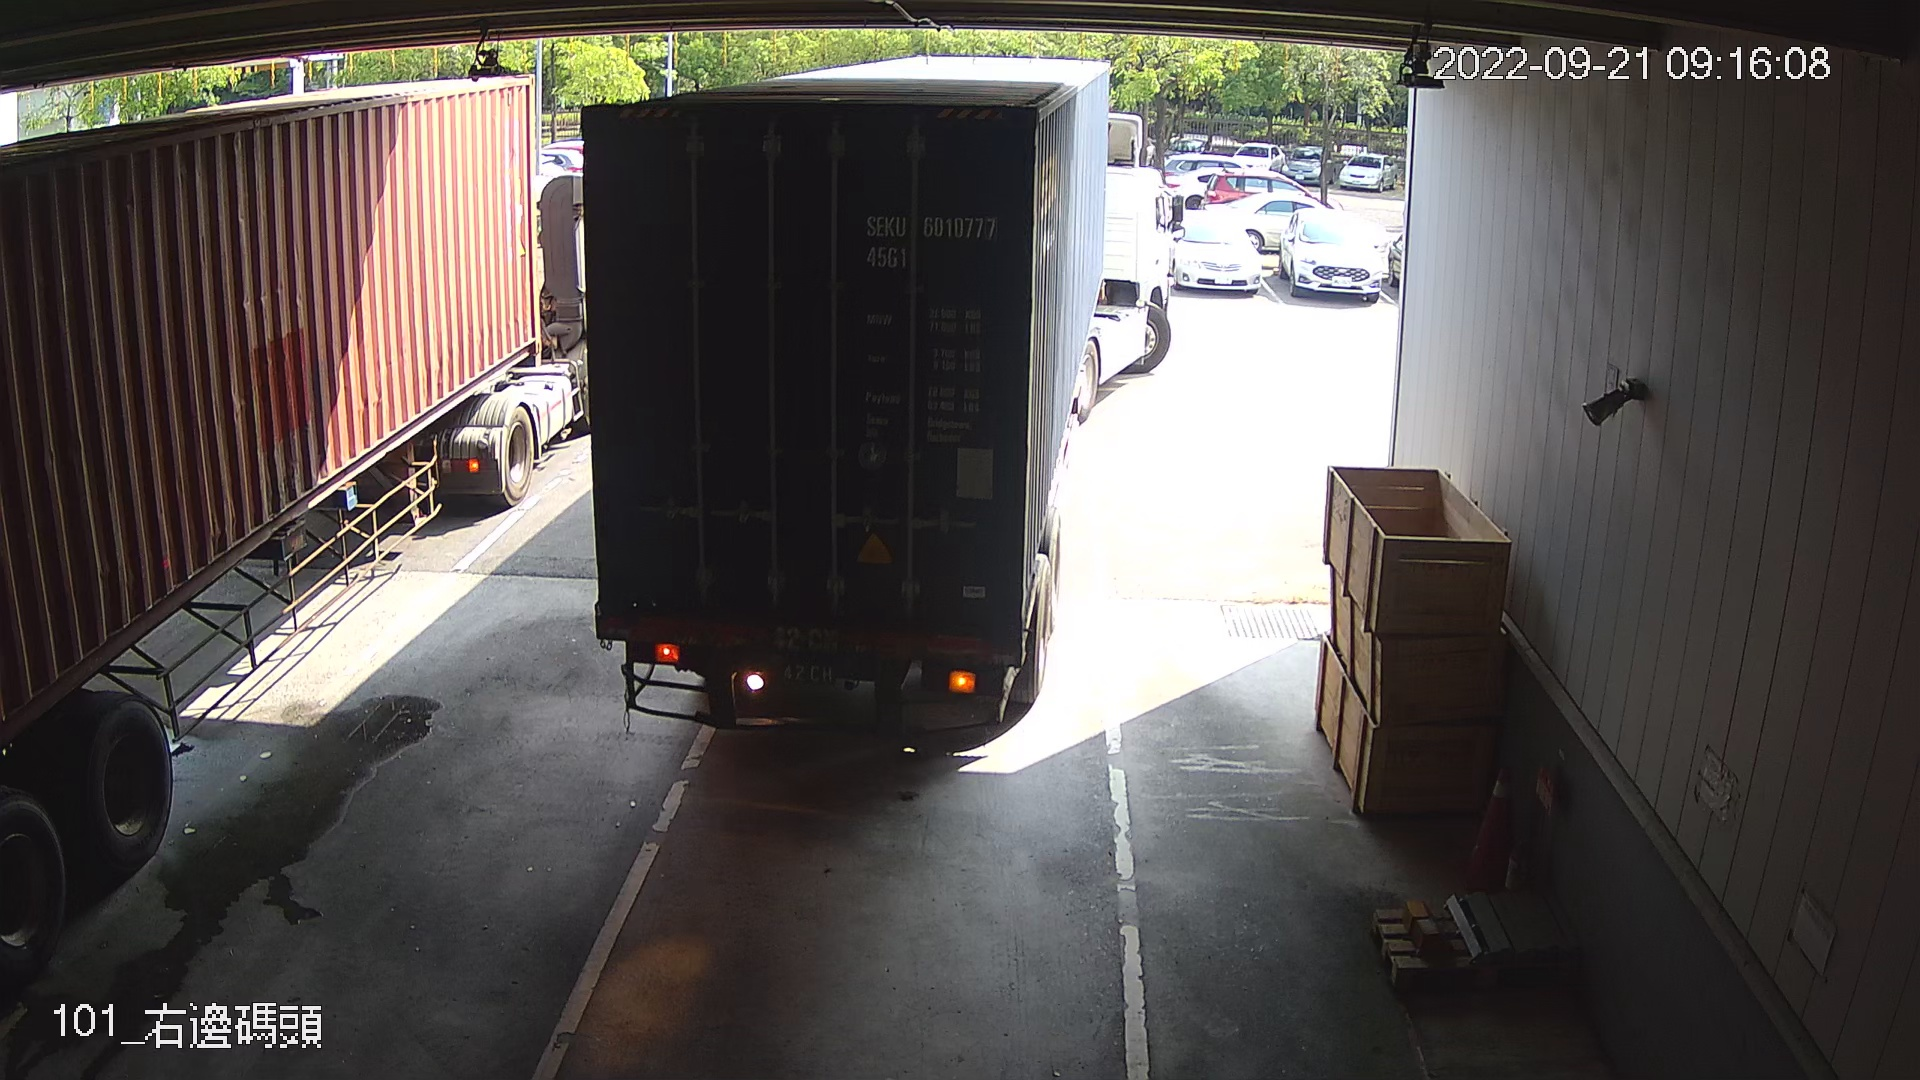container: (856, 204, 1007, 276)
